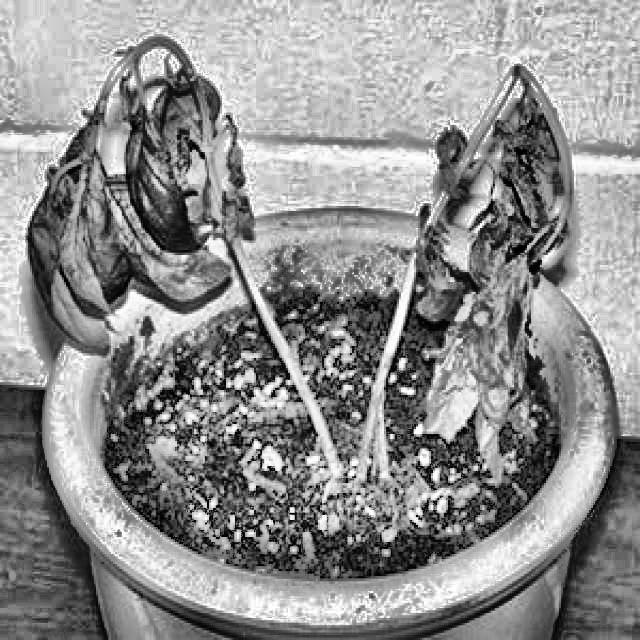plants: (26, 25, 624, 638), (26, 26, 312, 522), (347, 48, 579, 500)
